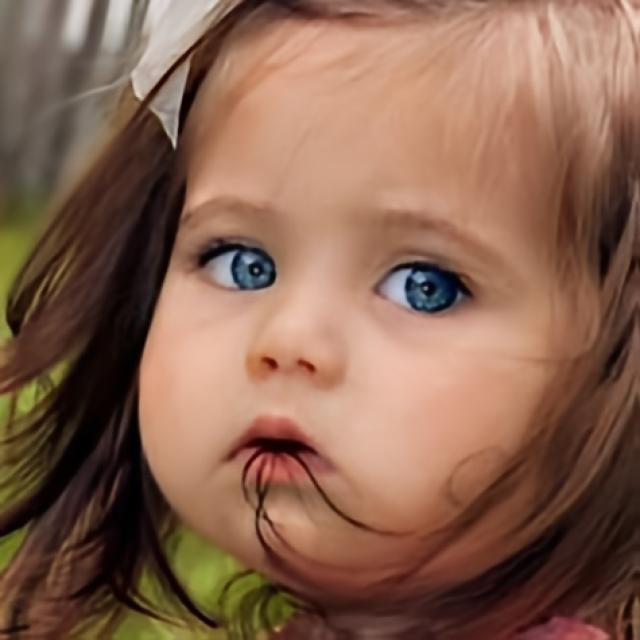fear: (134, 0, 574, 598)
